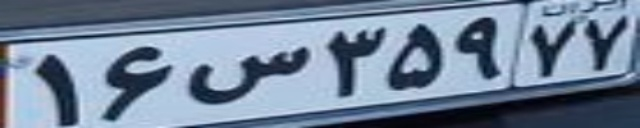1: (34, 53, 80, 124)
3: (328, 26, 382, 97)
5: (387, 23, 443, 90)
6: (99, 46, 171, 121)
7: (525, 17, 577, 77), (582, 13, 629, 72)
9: (456, 16, 499, 80)
sin: (186, 45, 312, 104)
